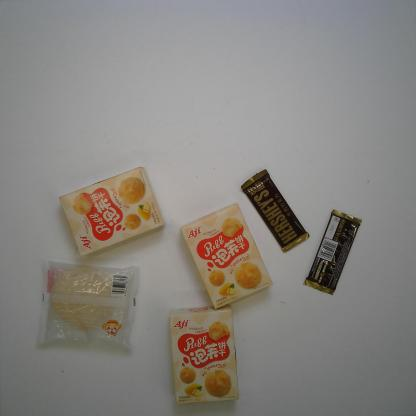Chocolate: (239, 168, 310, 255), (300, 207, 364, 298)
Dessert: (34, 258, 144, 357), (180, 200, 275, 313), (57, 166, 167, 256), (166, 304, 242, 406)
